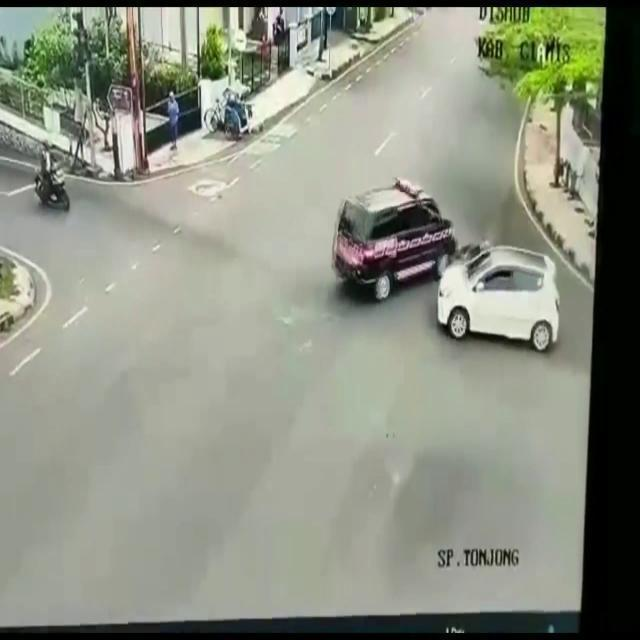accident: (331, 174, 561, 354)
